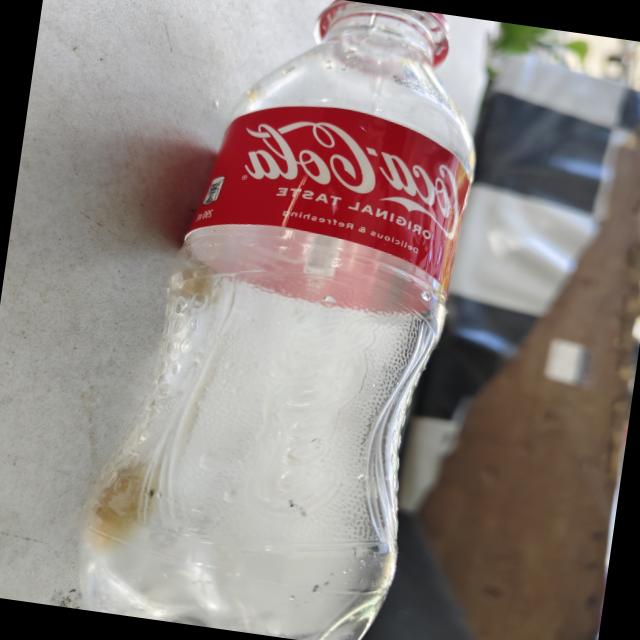Bottle: (79, 0, 474, 640)
